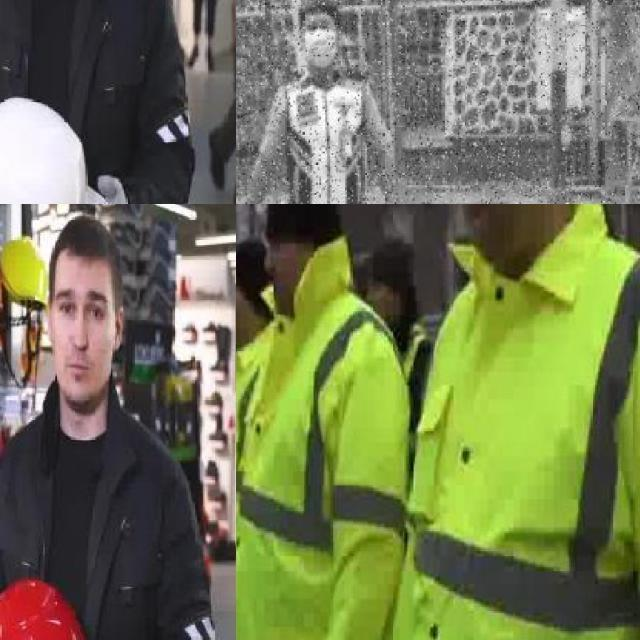apron: (85, 170, 131, 204)
